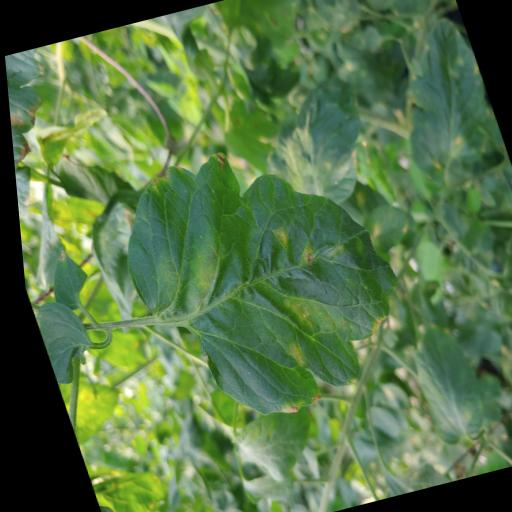Leaf Mold: (90, 118, 428, 440)
